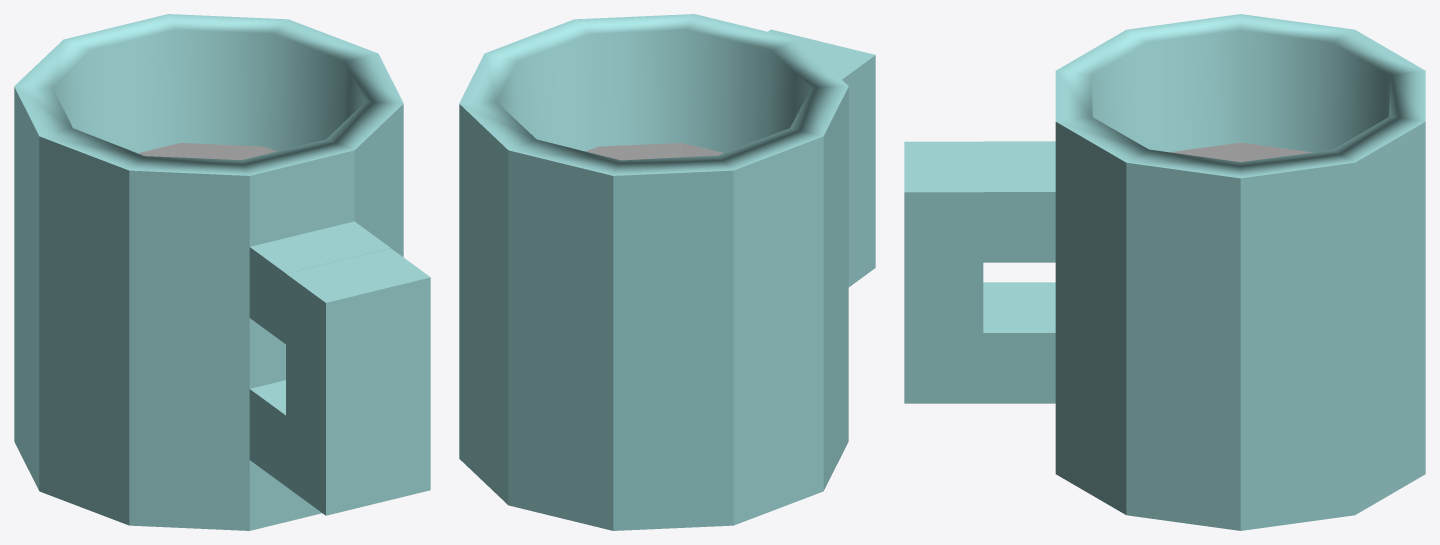
Rendered from PintHalf.fbx.
3 renders of one model, left to right at view 1: azimuth 30°, elevation 25°; view 2: azimuth 150°, elevation 25°; view 3: azimuth 270°, elevation 25°, orthographic.
Visible parts, largest first — view 1: pCylinder1, pCylinder2; view 2: pCylinder1, pCylinder2; view 3: pCylinder1, pCylinder2.
Part boxes in pixels (x1,y1,x2,y2): pCylinder1: (14,14,430,530); pCylinder2: (138,143,276,159); pCylinder1: (459,14,875,530); pCylinder2: (585,143,723,160); pCylinder1: (904,14,1425,530); pCylinder2: (1170,142,1312,162).
Bounding box in the file's own units: 2 × 2 × 2.68.
